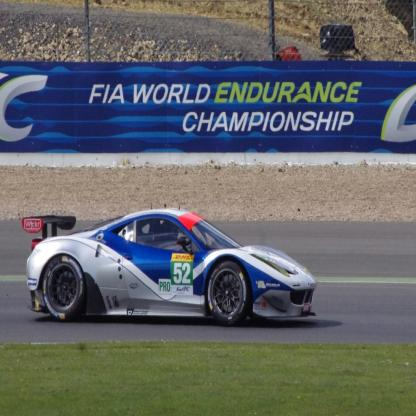Car: (19, 207, 321, 327)
